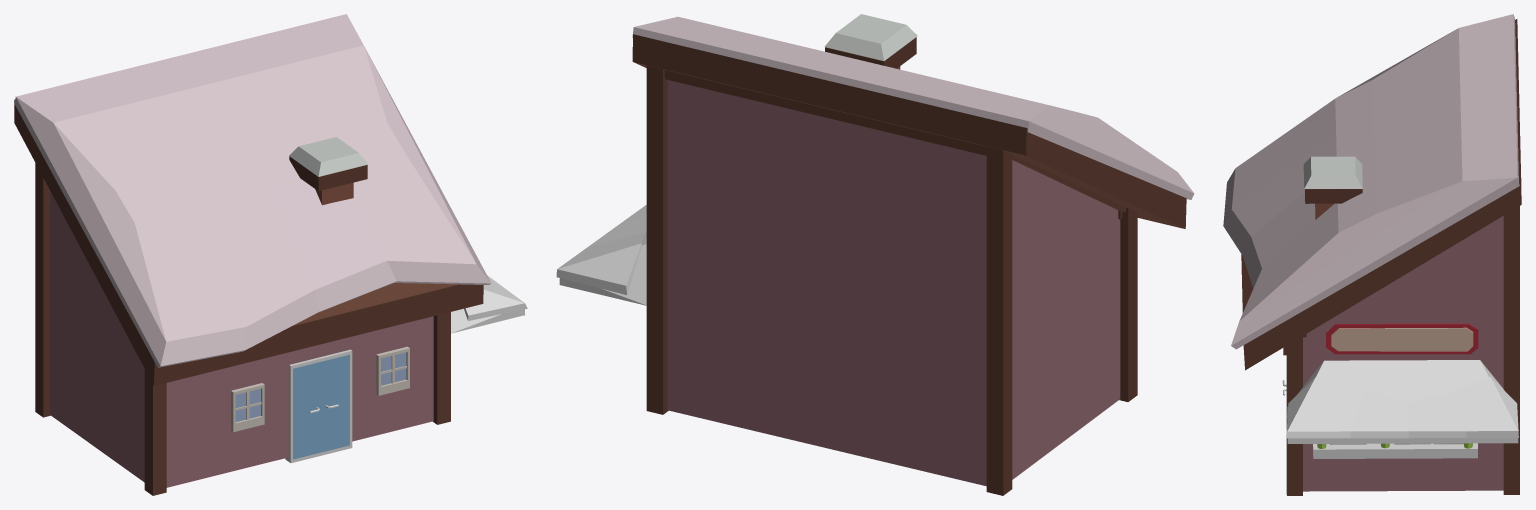
The model's file is House.fbx.
The picture shows the model from 3 angles, left to right: view 1: azimuth 30°, elevation 25°; view 2: azimuth 150°, elevation 25°; view 3: azimuth 270°, elevation 25°; orthographic projection. The views are drawn at different scales.
Visible parts, largest first — view 1: HouseSnow, House, Roof, Door, Windows, Windows.005, Cover; view 2: House, HouseSnow, Roof, Cover; view 3: HouseSnow, House, Roof, Cover, NamePlate, OutsideTable.
Boxes of the visible parts, left/top/right/bottom form: HouseSnow: left=14, top=14, right=527, bottom=367; House: left=35, top=163, right=450, bottom=495; Roof: left=14, top=99, right=483, bottom=385; Door: left=285, top=349, right=352, bottom=463; Windows: left=231, top=383, right=264, bottom=432; Windows.005: left=376, top=346, right=409, bottom=395; Cover: left=451, top=308, right=525, bottom=333; House: left=646, top=65, right=1137, bottom=495; HouseSnow: left=556, top=14, right=1194, bottom=294; Roof: left=632, top=34, right=1186, bottom=228; Cover: left=559, top=234, right=646, bottom=305; HouseSnow: left=1223, top=14, right=1519, bottom=438; House: left=1283, top=206, right=1519, bottom=495; Roof: left=1241, top=19, right=1521, bottom=370; Cover: left=1287, top=360, right=1518, bottom=443; NamePlate: left=1326, top=323, right=1478, bottom=354; OutsideTable: left=1313, top=443, right=1477, bottom=458.
Size of the model in its own units: 1092 by 849 by 702.
